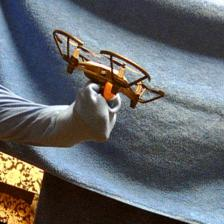drone: (54, 30, 167, 115)
